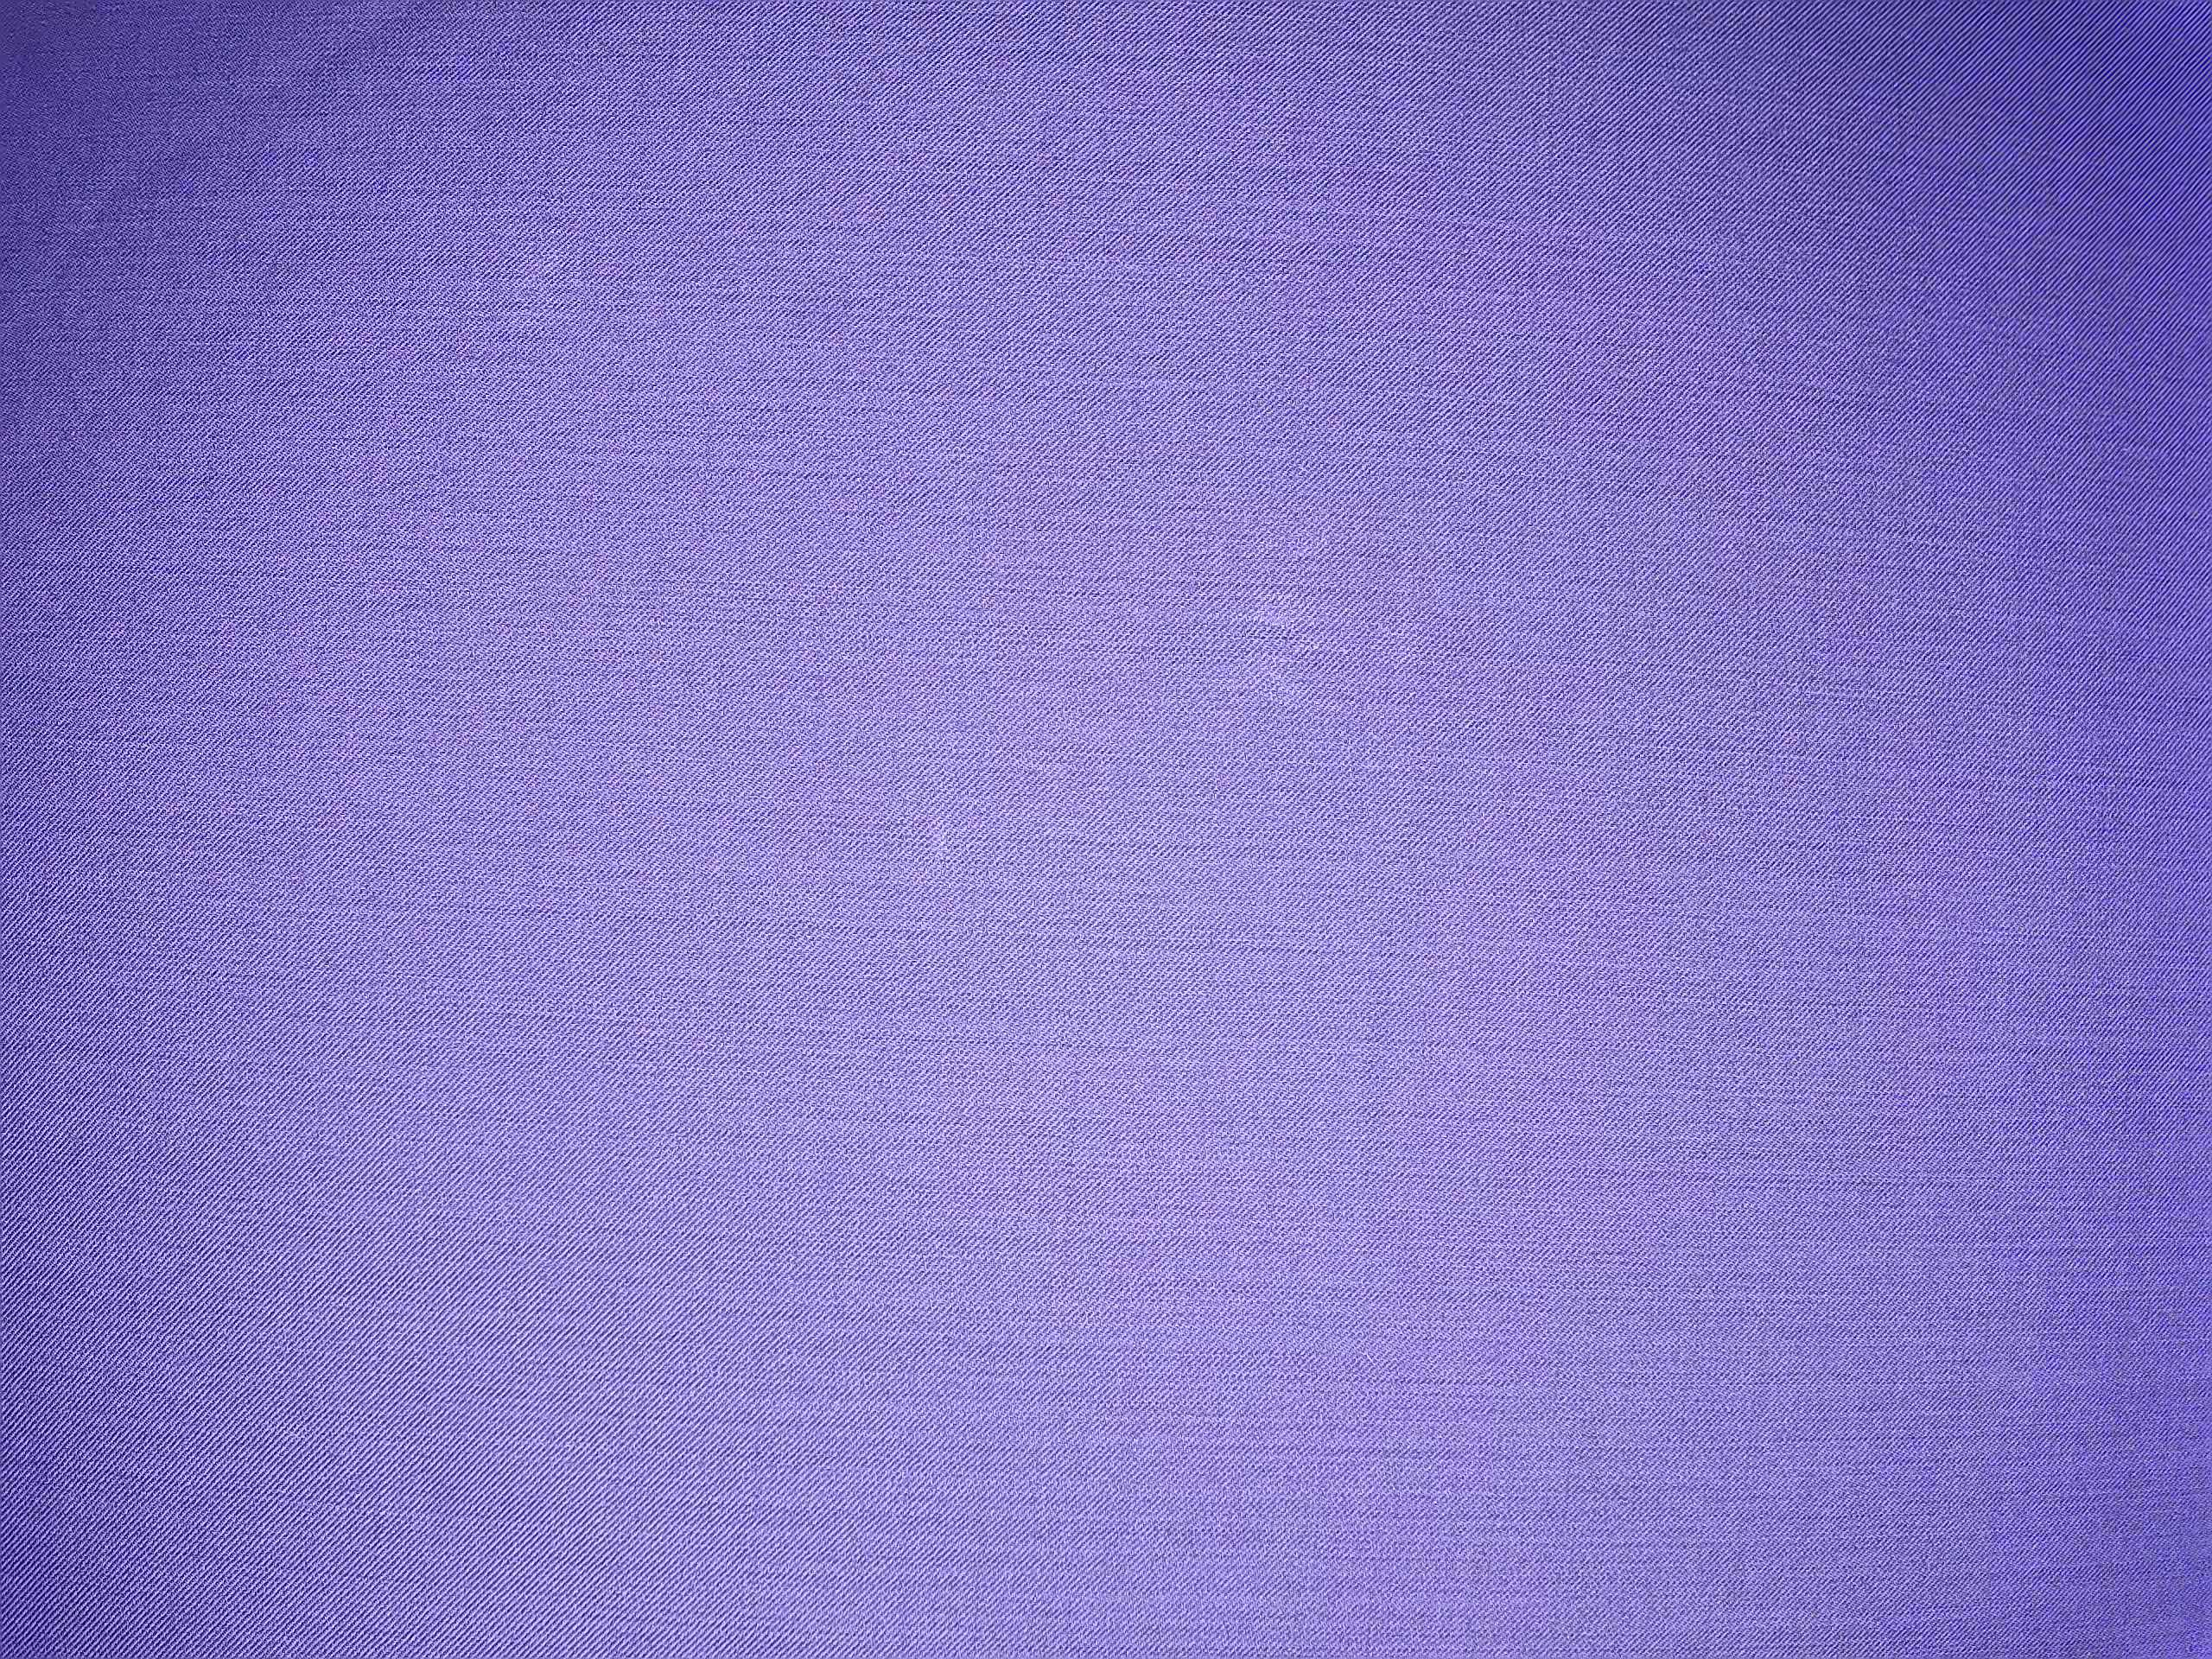others: (1204, 530, 1371, 734)
